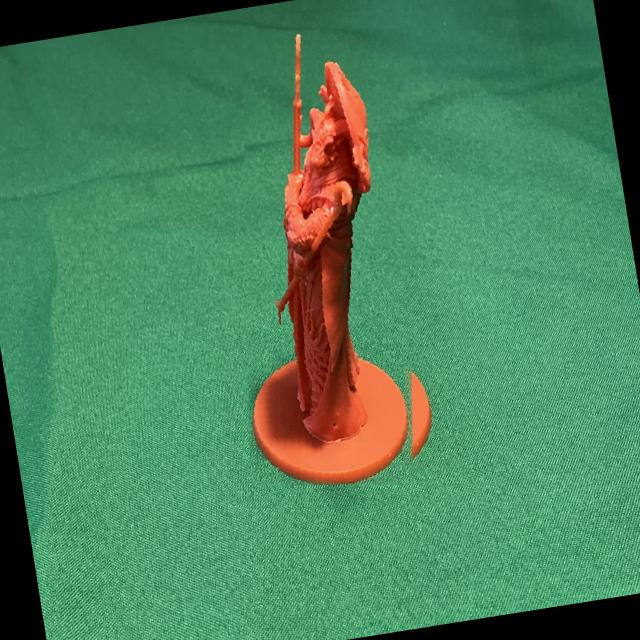amon: (195, 12, 460, 502)
